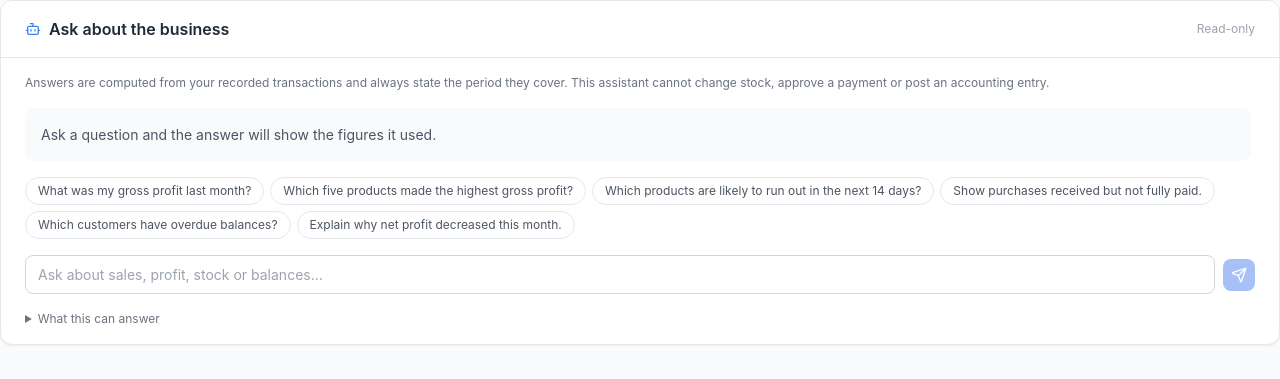
Test case: AssistantPanel › does not present "not enough data" as an answer with a figure
Click the button "What was my gross profit last month?": x=145, y=191 [25,177,264,205]
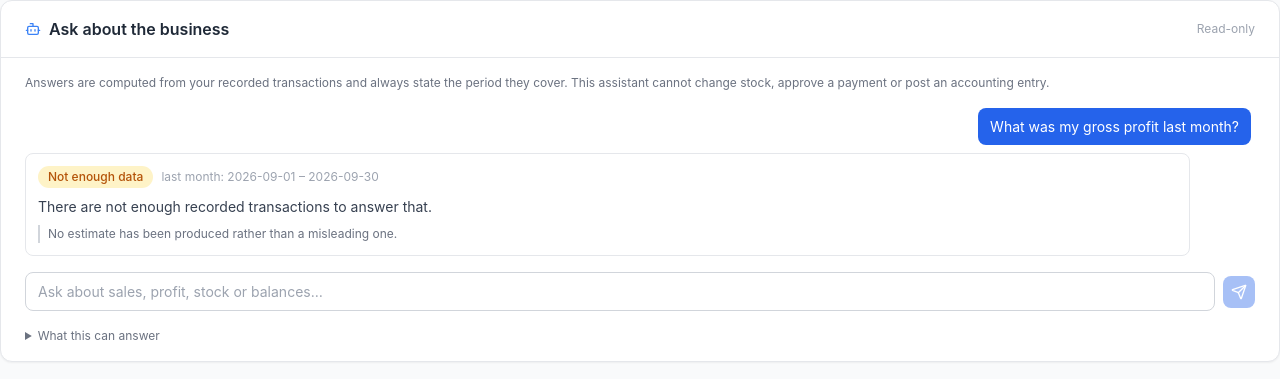
expect the text "Not enough data" is shown: met, box [38,166,153,188]
expect the text "No estimate has been produced rather than a misleading one." is shown: met, box [38,225,1177,243]
